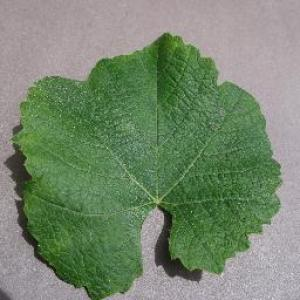Folha: (11, 30, 282, 299)
